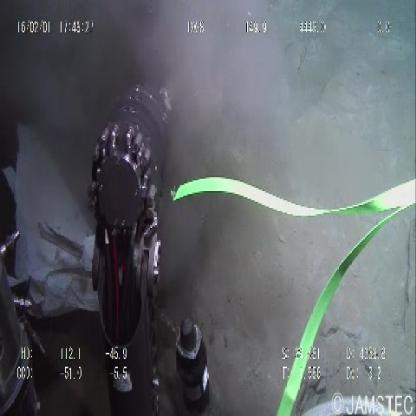Rov: (83, 78, 212, 416)
Rác: (1, 124, 105, 320)
